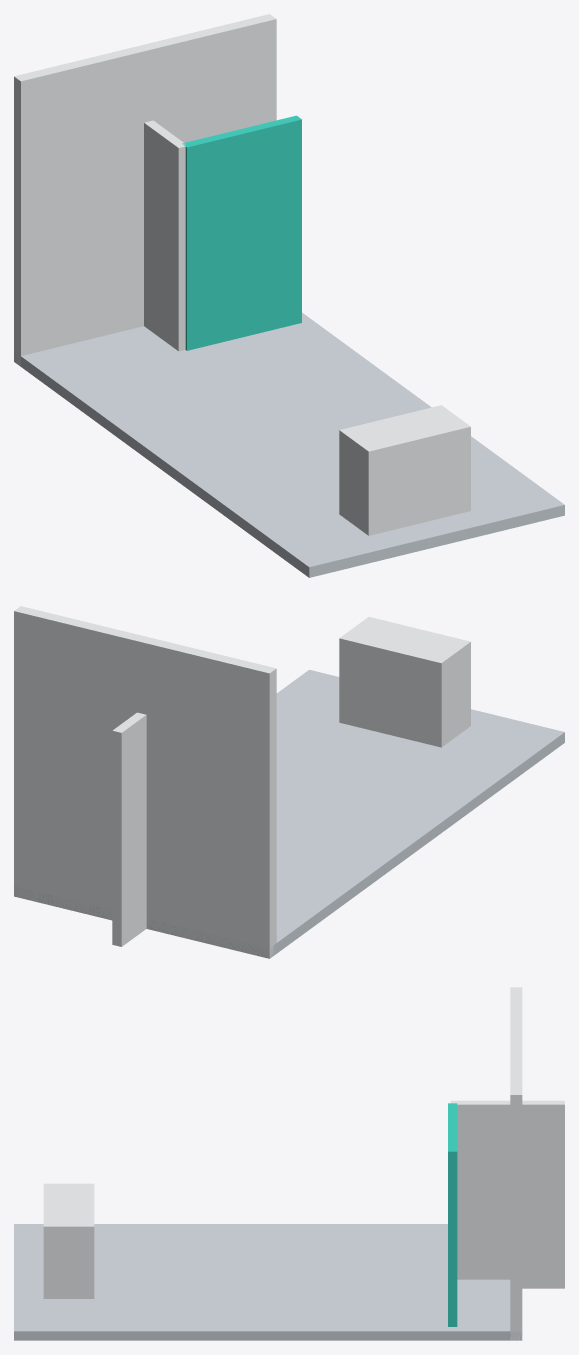
The picture shows the model from 3 angles, top to bottom: view 1: azimuth 30°, elevation 25°; view 2: azimuth 150°, elevation 25°; view 3: azimuth 270°, elevation 25°; orthographic projection. The views are drawn at different scales.
Visible parts, largest first — view 1: Exhibition Booth Concept; view 2: Exhibition Booth Concept; view 3: Exhibition Booth Concept.
Boxes of the visible parts, <box> form: Exhibition Booth Concept: <box>14,14,564,577</box>; Exhibition Booth Concept: <box>14,606,564,958</box>; Exhibition Booth Concept: <box>14,987,564,1340</box>.
Size of the model in its own units: 3 by 3.2 by 6.51.
